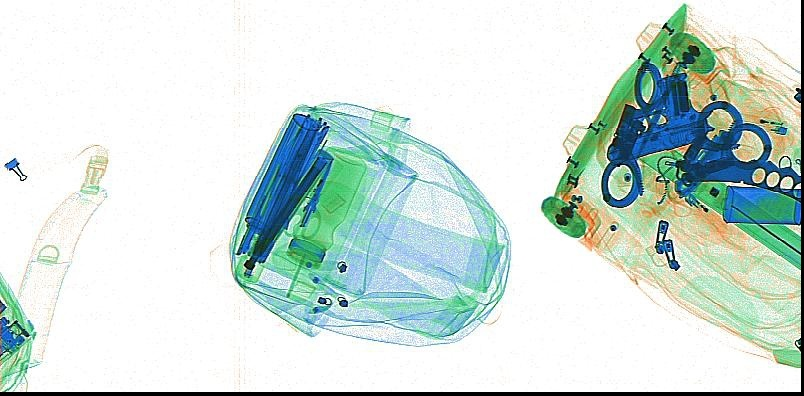handcuffs: (600, 59, 679, 208), (672, 98, 772, 195)
knife: (684, 159, 799, 202)
lighter: (733, 112, 788, 136)
pressure: (232, 114, 323, 256)
scissors: (632, 41, 705, 162), (281, 158, 334, 241)
zippooil: (722, 185, 799, 224)
